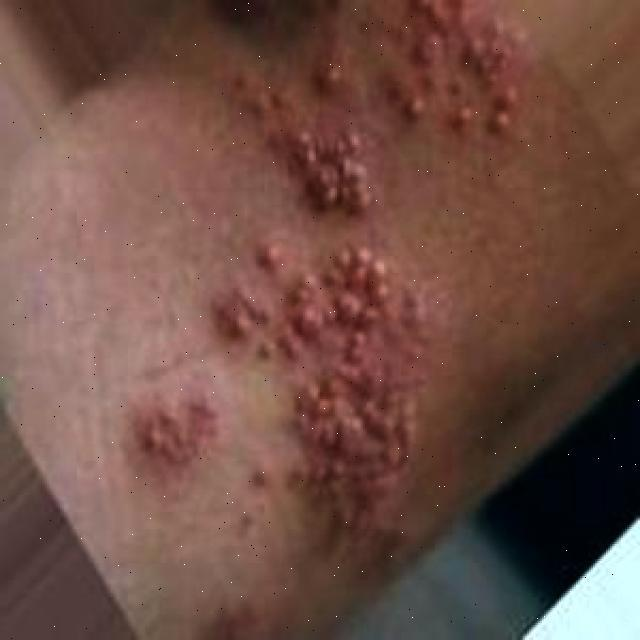Shingles: (215, 248, 423, 569), (228, 0, 514, 218), (131, 388, 217, 474)
